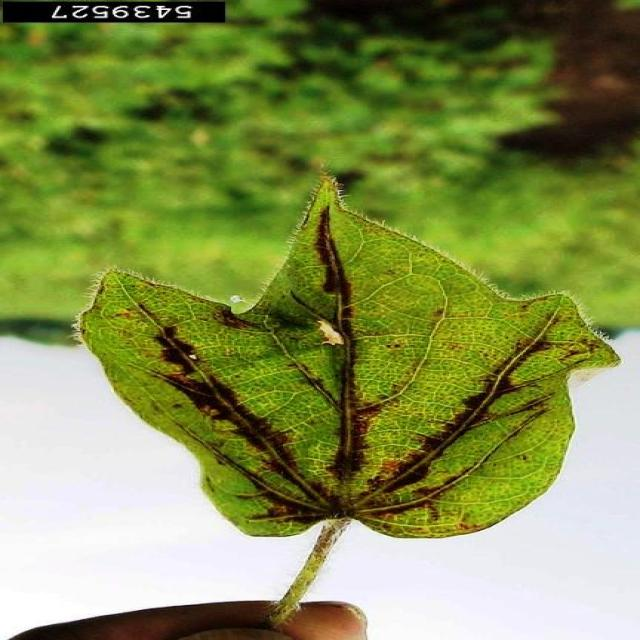Bacterial Blight: (188, 300, 472, 503)
